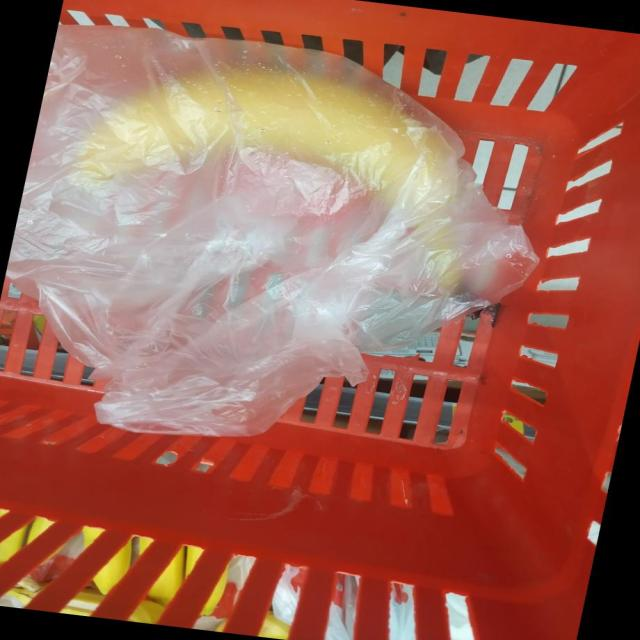Banana: (69, 60, 464, 288)
